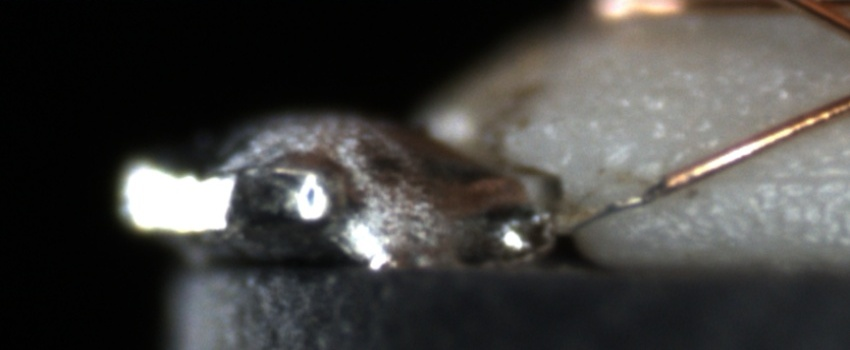DL: (691, 149, 850, 213)
TTCW: (556, 156, 710, 238)
